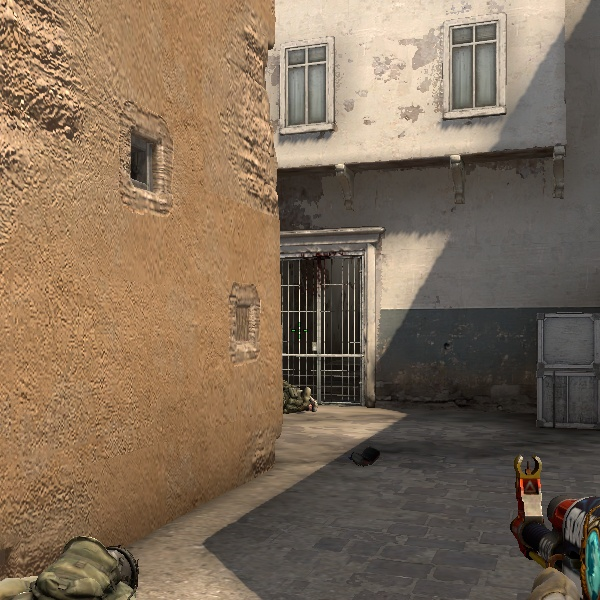ct_body: (283, 379, 315, 413)
